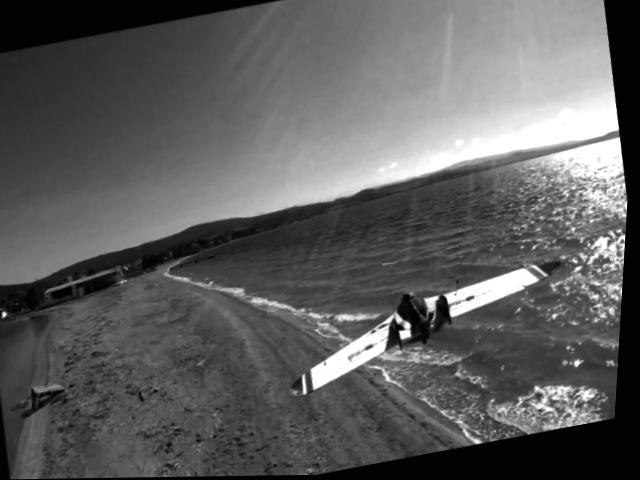hedef: (274, 251, 584, 409)
